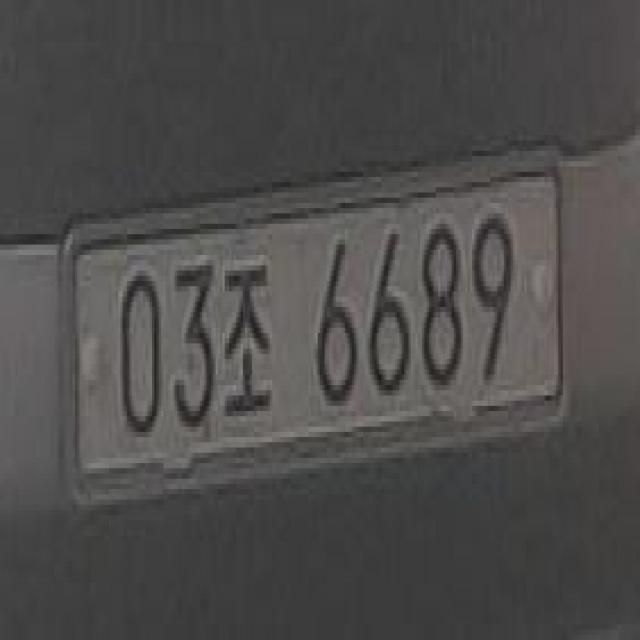illegal_plate: (71, 160, 564, 500)
